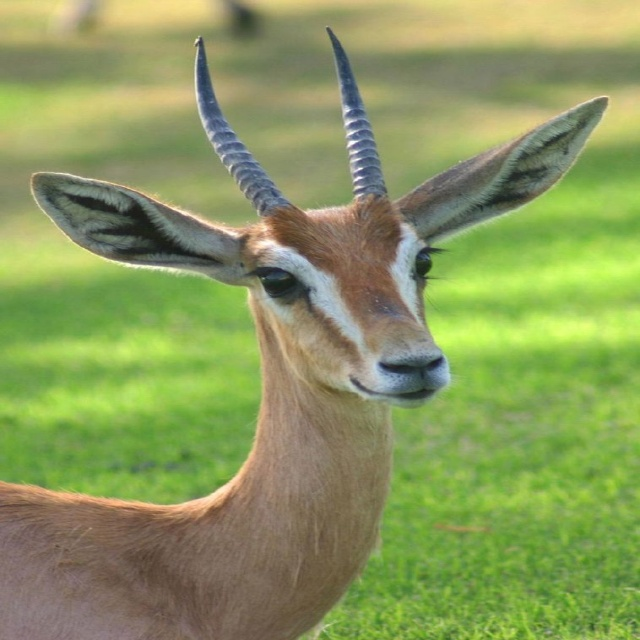Deer: (0, 24, 611, 640)
